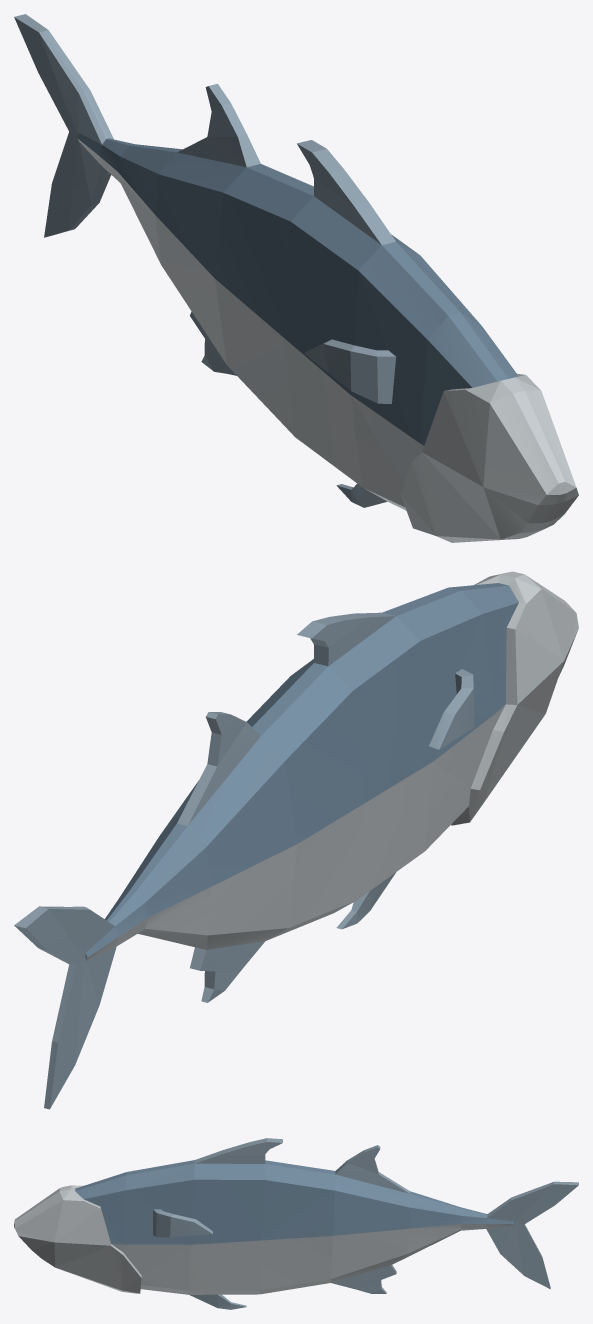
Rendered from fish.glb.
The picture shows the model from 3 angles, top to bottom: view 1: azimuth 30°, elevation 25°; view 2: azimuth 150°, elevation 25°; view 3: azimuth 270°, elevation 25°; orthographic projection. The views are drawn at different scales.
Visible parts, largest first — view 1: fish; view 2: fish; view 3: fish.
Boxes of the visible parts, x1=… form: fish: x1=14, y1=14, x2=578, y2=542; fish: x1=14, y1=571, x2=578, y2=1109; fish: x1=14, y1=1138, x2=578, y2=1309.
Bounding box in the file's own units: 0.0108 × 0.0248 × 0.075.
